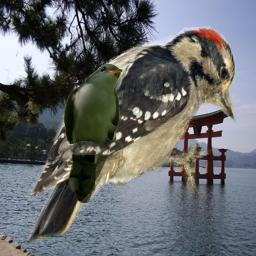Cuckoo: (63, 63, 123, 203)
Woodpecker: (8, 24, 236, 252)
